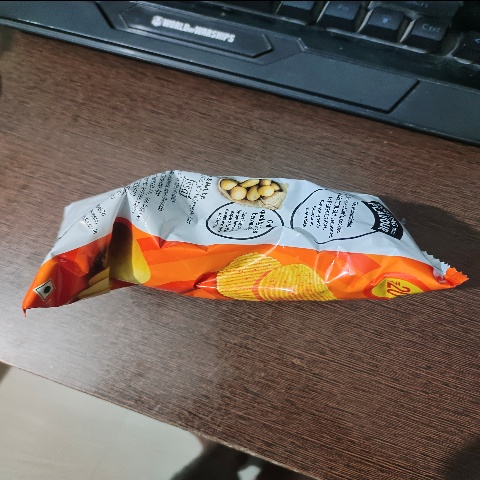lays_orange_pack: (35, 165, 462, 341)
